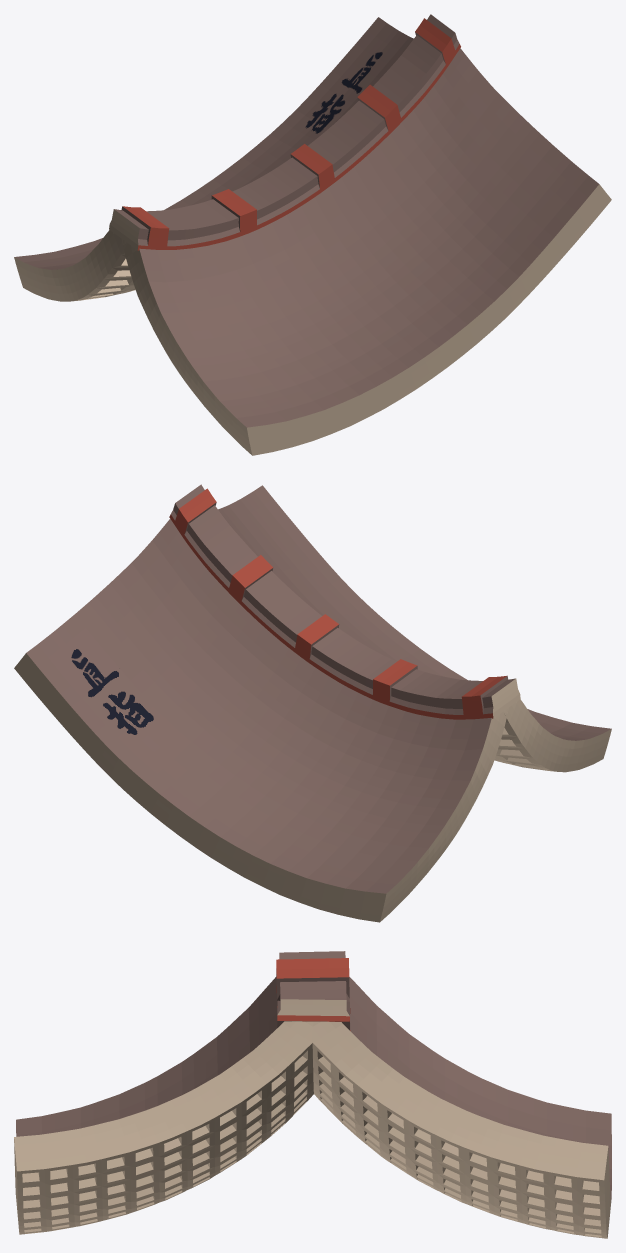
Rendered from 직지모형.fbx.
3 renders of one model, top to bottom at view 1: azimuth 30°, elevation 25°; view 2: azimuth 150°, elevation 25°; view 3: azimuth 270°, elevation 25°, orthographic. The views are drawn at different scales.
Visible parts, largest first — view 1: Cube.001; view 2: Cube.001; view 3: Cube.001.
Part boxes in pixels (<box>): Cube.001: <box>14,14,611,455</box>; Cube.001: <box>14,484,611,922</box>; Cube.001: <box>14,951,611,1238</box>.
Bounding box in the file's own units: 967 × 667 × 1007.
4 materials, 1 textured.
